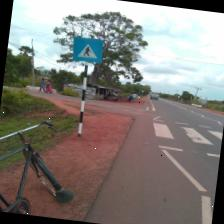blueboard: (70, 35, 105, 64)
crossing: (145, 110, 224, 158)
